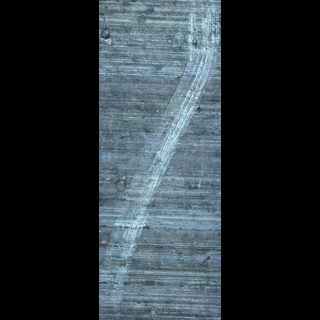d: (185, 0, 221, 94), (105, 221, 140, 304), (128, 150, 161, 233), (159, 84, 192, 151)
